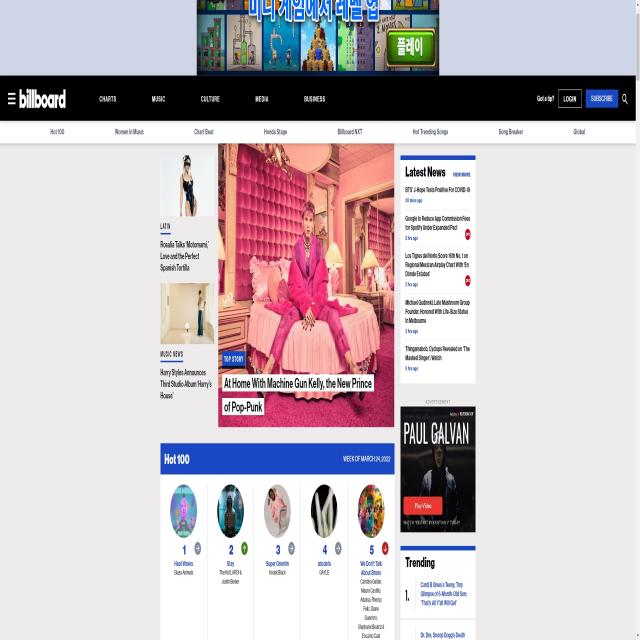menu-bar: (79, 78, 340, 120)
side-panel: (401, 156, 476, 380)
tab-bar: (39, 126, 592, 140)
